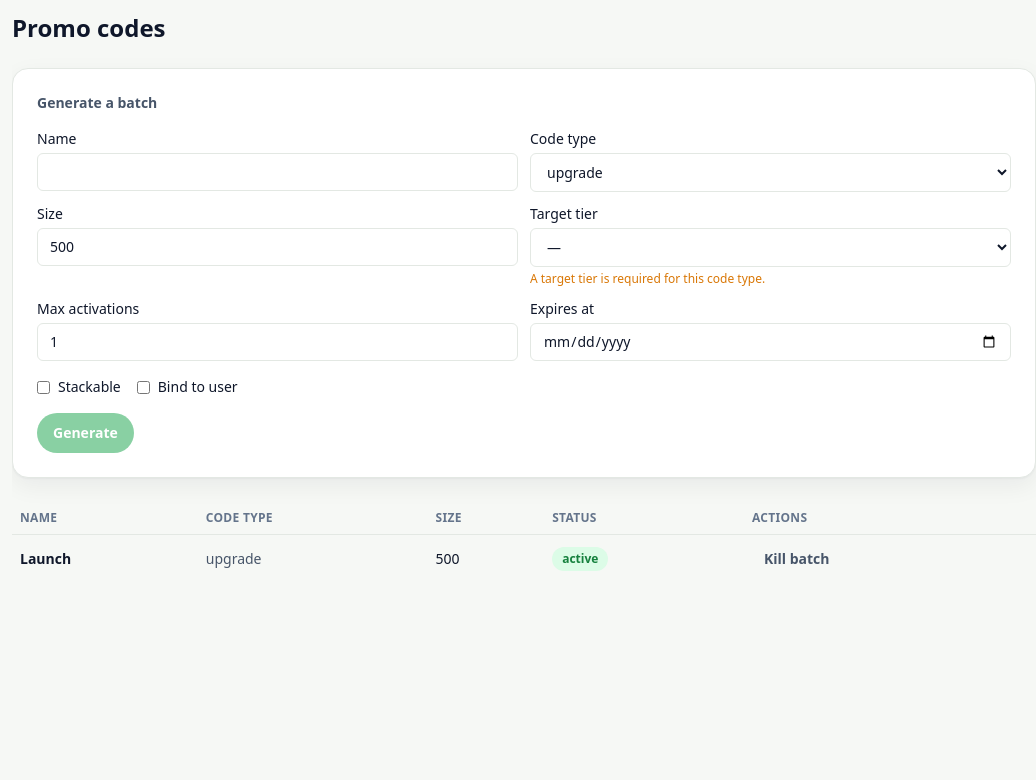
Test case: PromoView › only shows the bound-user field when bind is checked
This screenshot has width=1036, height=780.
Expected: the dropdown labelled "Code type" is shown, [530,153,1011,192]
Expected: the field labelled "Bound user ID" is not shown
Click the checkbox labelled "Bind to user": (143, 387) [137,380,150,394]
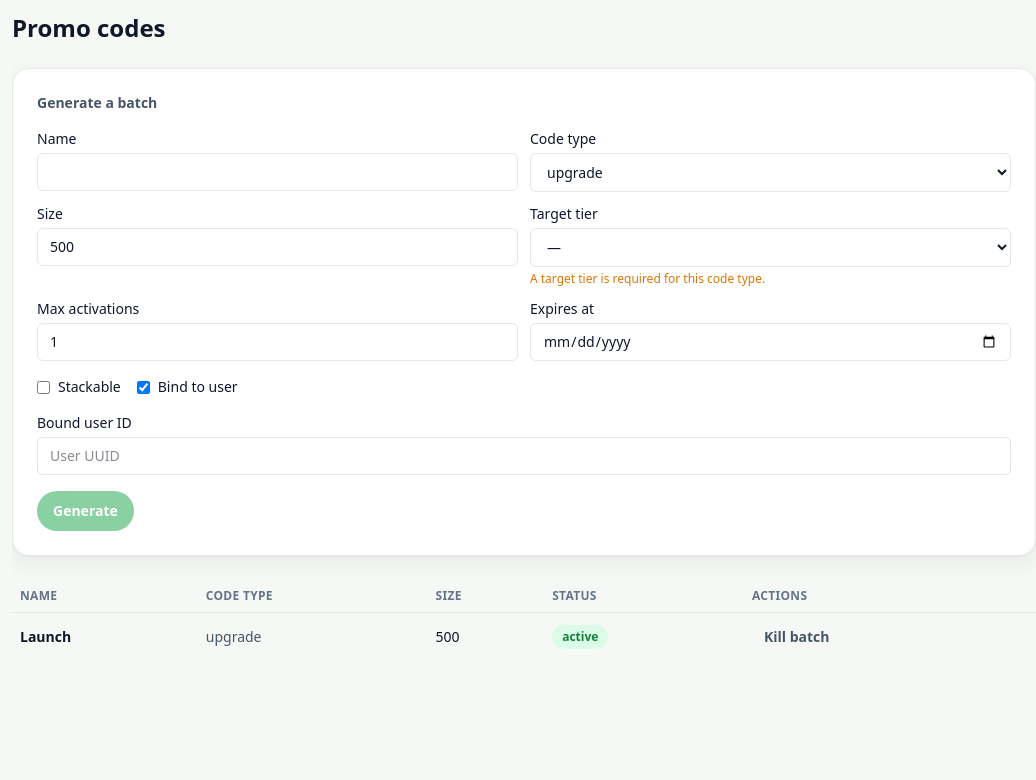
Now the field labelled "Bound user ID" is shown, box [37,437,1011,475]
